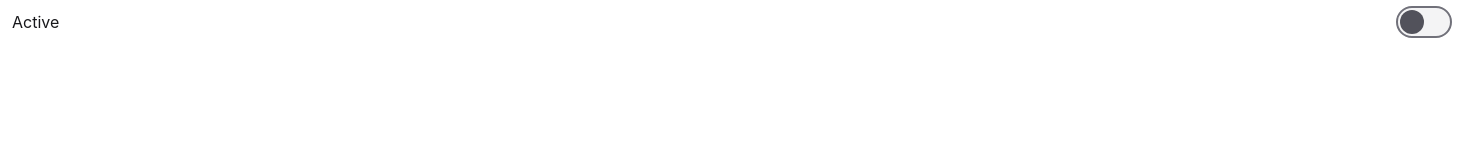
Switch › turns on a tap on its label and off with the Space key
The image size is (1464, 160).
Click the text "Active" at [36, 22], box [12,11,59,33]
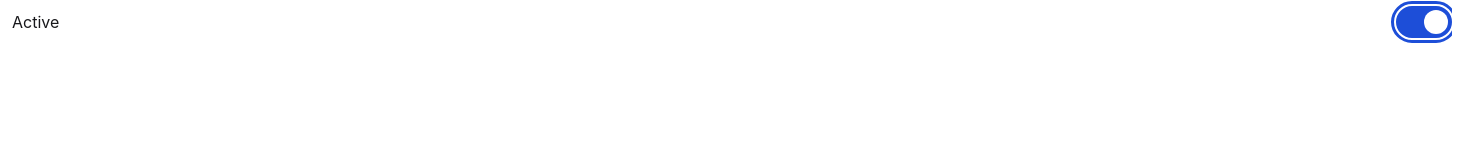
Now the switch labelled "Active" is checked, box [1396,6,1452,38]
Type keys " "
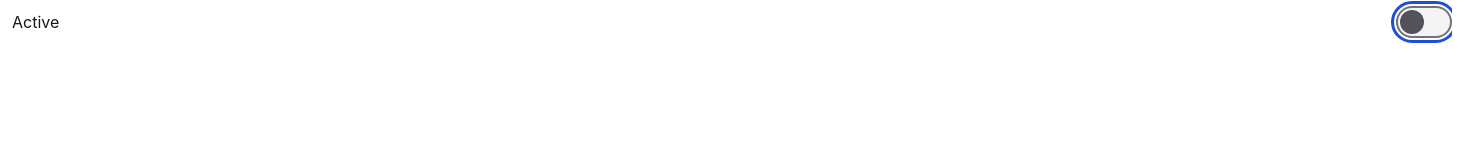
Now the switch labelled "Active" is not checked, box [1396,6,1452,38]
